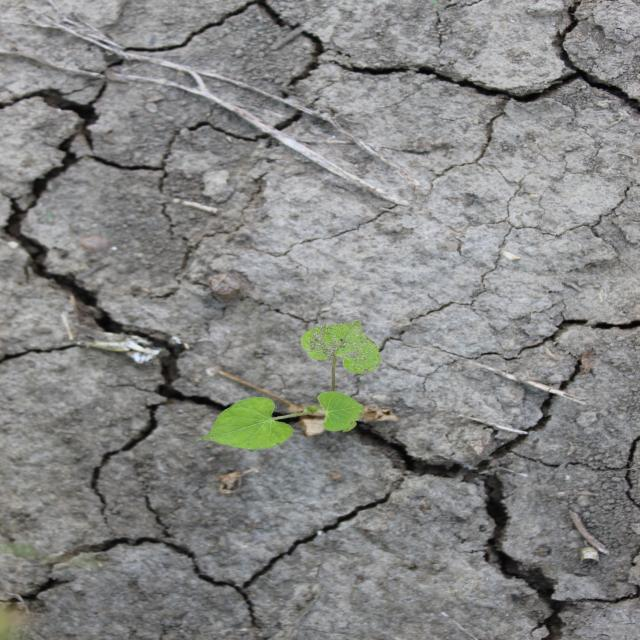MorningGlory: (194, 317, 383, 452)
